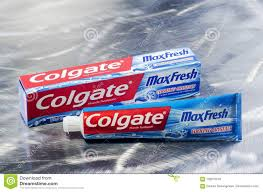colgate-medium: (21, 43, 197, 130)
